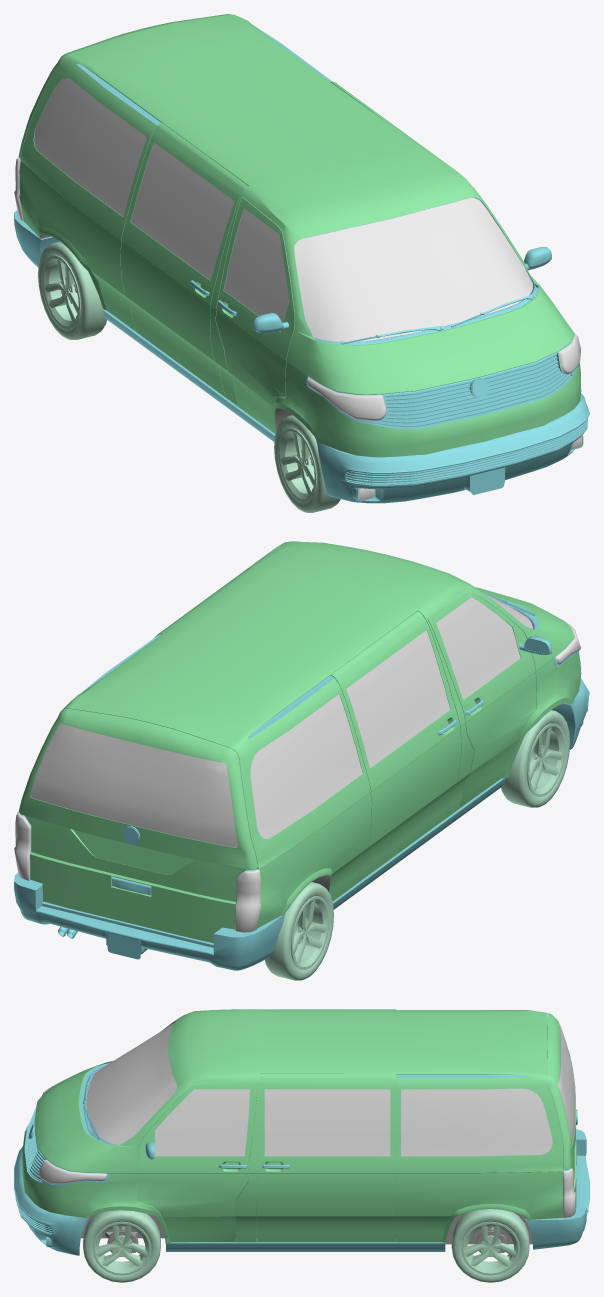
The model's file is Van.fbx.
The picture shows the model from 3 angles, top to bottom: view 1: azimuth 30°, elevation 25°; view 2: azimuth 150°, elevation 25°; view 3: azimuth 270°, elevation 25°; orthographic projection. The views are drawn at different scales.
Visible parts, largest first — view 1: Van, Van_Middle_Door_R, Van_Front_Door_R, Van_Front_Door_R_Glass, Van_Wheel_R2, Van_Wheel_R1, Van_Rear_Door; view 2: Van, Van_Rear_Door, Van_Middle_Door_R, Van_Front_Door_R, Van_Front_Door_R_Glass, Van_Wheel_R2, Van_Wheel_R1; view 3: Van, Van_Middle_Door_L_1, Van_Front_Door_L_1, Van_Front_Door_L_Glass, Van_Wheel_L2, Van_Wheel_L1, Van_Rear_Door.
Boxes of the visible parts, x1,y1,x2,y2 form: Van: [14, 14, 589, 503]; Van_Middle_Door_R: [120, 123, 248, 396]; Van_Front_Door_R: [215, 197, 294, 433]; Van_Front_Door_R_Glass: [224, 208, 289, 331]; Van_Wheel_R2: [38, 241, 106, 339]; Van_Wheel_R1: [274, 415, 340, 512]; Van_Rear_Door: [18, 14, 231, 158]; Van: [14, 541, 589, 970]; Van_Rear_Door: [18, 708, 258, 942]; Van_Middle_Door_R: [331, 611, 461, 882]; Van_Front_Door_R: [427, 593, 551, 807]; Van_Front_Door_R_Glass: [436, 597, 520, 699]; Van_Wheel_R2: [264, 882, 333, 980]; Van_Wheel_R1: [501, 710, 570, 807]; Van: [14, 1009, 589, 1255]; Van_Middle_Door_L_1: [257, 1074, 396, 1241]; Van_Front_Door_L_1: [139, 1082, 257, 1243]; Van_Front_Door_L_Glass: [155, 1089, 249, 1156]; Van_Wheel_L2: [451, 1209, 529, 1282]; Van_Wheel_L1: [83, 1210, 160, 1282]; Van_Rear_Door: [547, 1013, 577, 1207].
Size of the model in its own units: 229 by 188 by 492.
